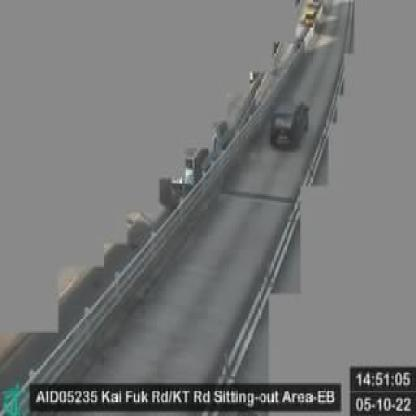Car: (270, 95, 310, 149)
